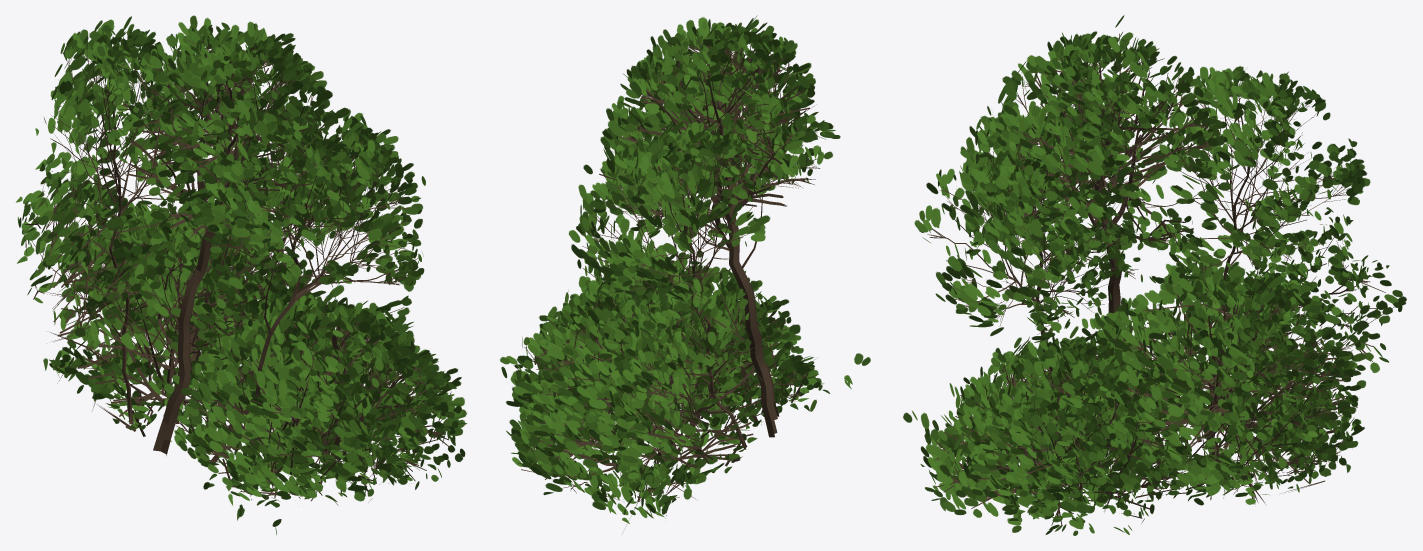
3 renders of one model, left to right at view 1: azimuth 30°, elevation 25°; view 2: azimuth 150°, elevation 25°; view 3: azimuth 270°, elevation 25°, orthographic. The views are drawn at different scales.
Parts seen in each view (by area): view 1: oak 01.001_trunk_Mat.001_0.260; view 2: oak 01.001_trunk_Mat.001_0.260; view 3: oak 01.001_trunk_Mat.001_0.260.
Boxes of the visible parts, x1,y1,x2,y2 form: oak 01.001_trunk_Mat.001_0.260: (15,15,467,534); oak 01.001_trunk_Mat.001_0.260: (500,15,870,523); oak 01.001_trunk_Mat.001_0.260: (903,15,1406,535).
Size of the model in its own units: 3.23 by 4.72 by 4.94.
Materials: 2 (1 with a texture image).
